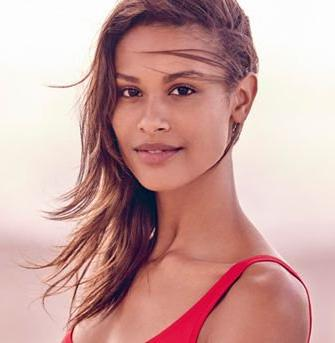Sober: (110, 35, 225, 180)
